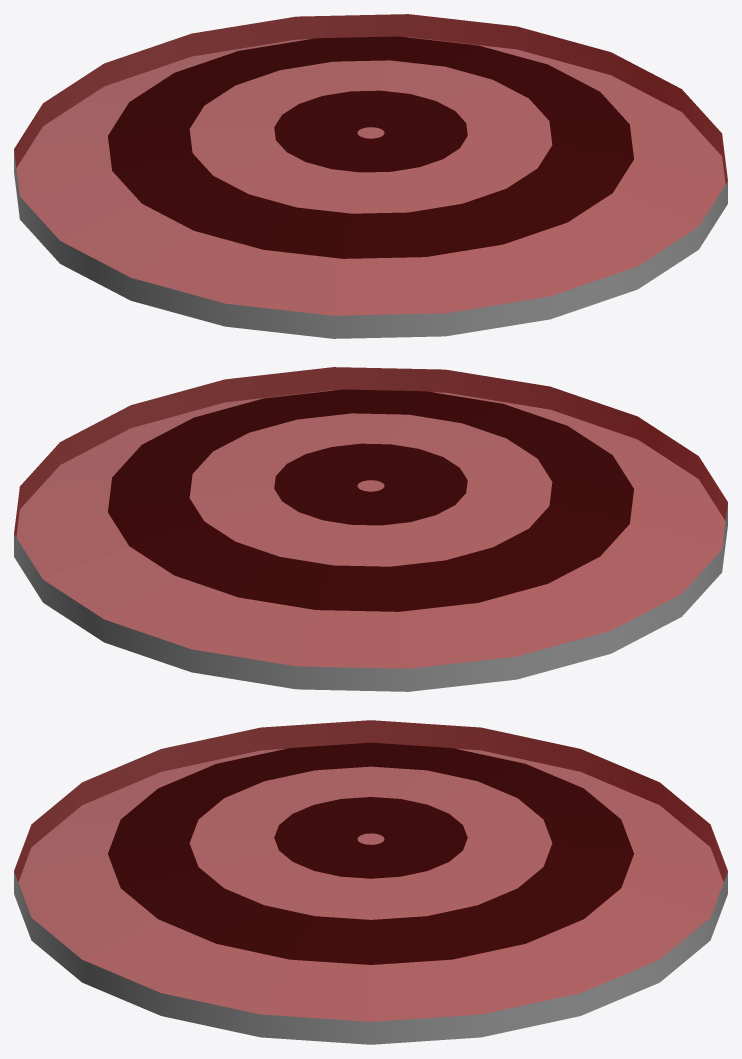
The model's file is dark red frisbee.fbx.
3 renders of one model, top to bottom at view 1: azimuth 30°, elevation 25°; view 2: azimuth 150°, elevation 25°; view 3: azimuth 270°, elevation 25°, orthographic.
Visible parts, largest first — view 1: pCylinder7; view 2: pCylinder7; view 3: pCylinder7.
Part boxes in pixels (x1,y1,x2,y2): pCylinder7: (14,14,727,338); pCylinder7: (14,367,727,691); pCylinder7: (14,720,727,1044).
Size of the model in its own units: 2 by 0.1734 by 2.
